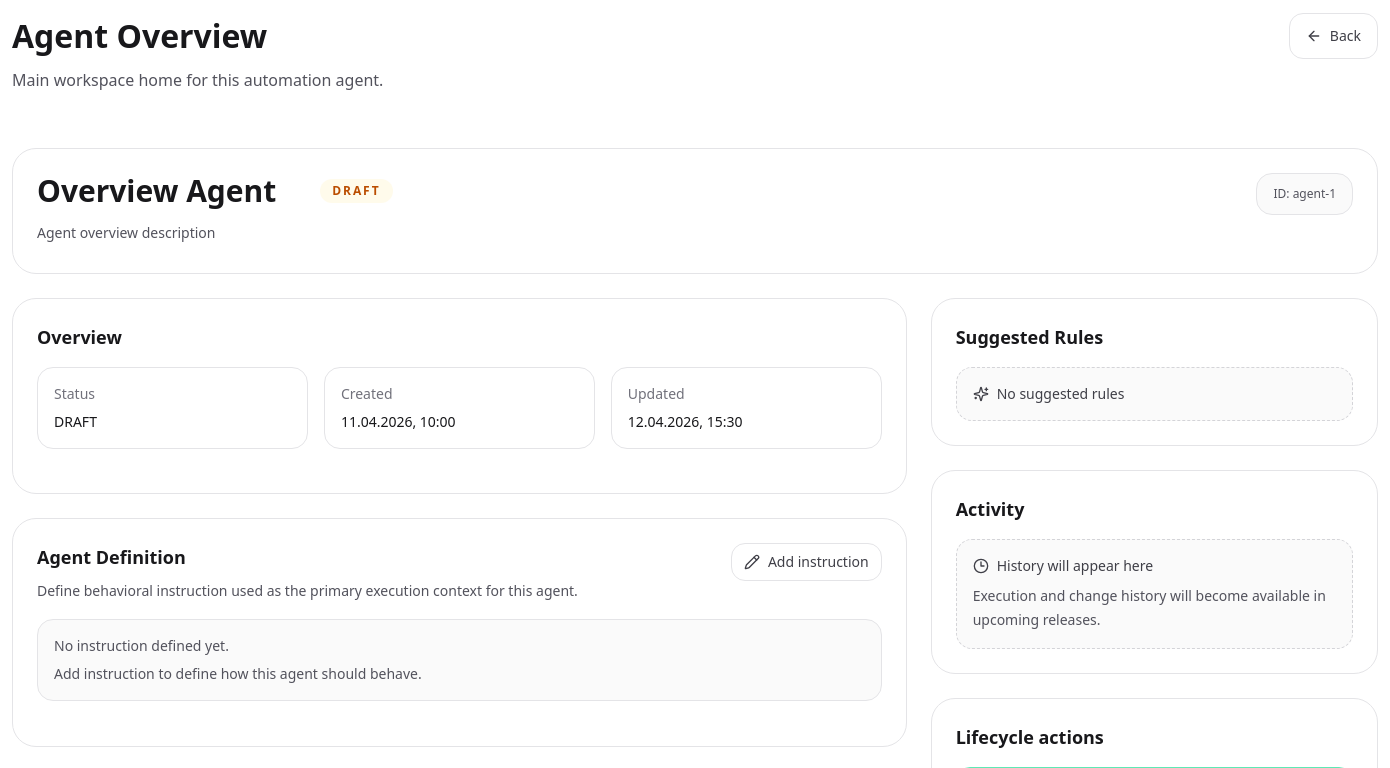
Scenario: AgentOverviewPage › cancels name editing on Escape without sending patch request
The width and height of the screenshot is (1390, 768).
expect the heading "Agent Overview" is shown: met, box [12,12,267,60]
Click the button with aria-label "Edit agent name". click: [157, 191]
box: [37,173,276,209]
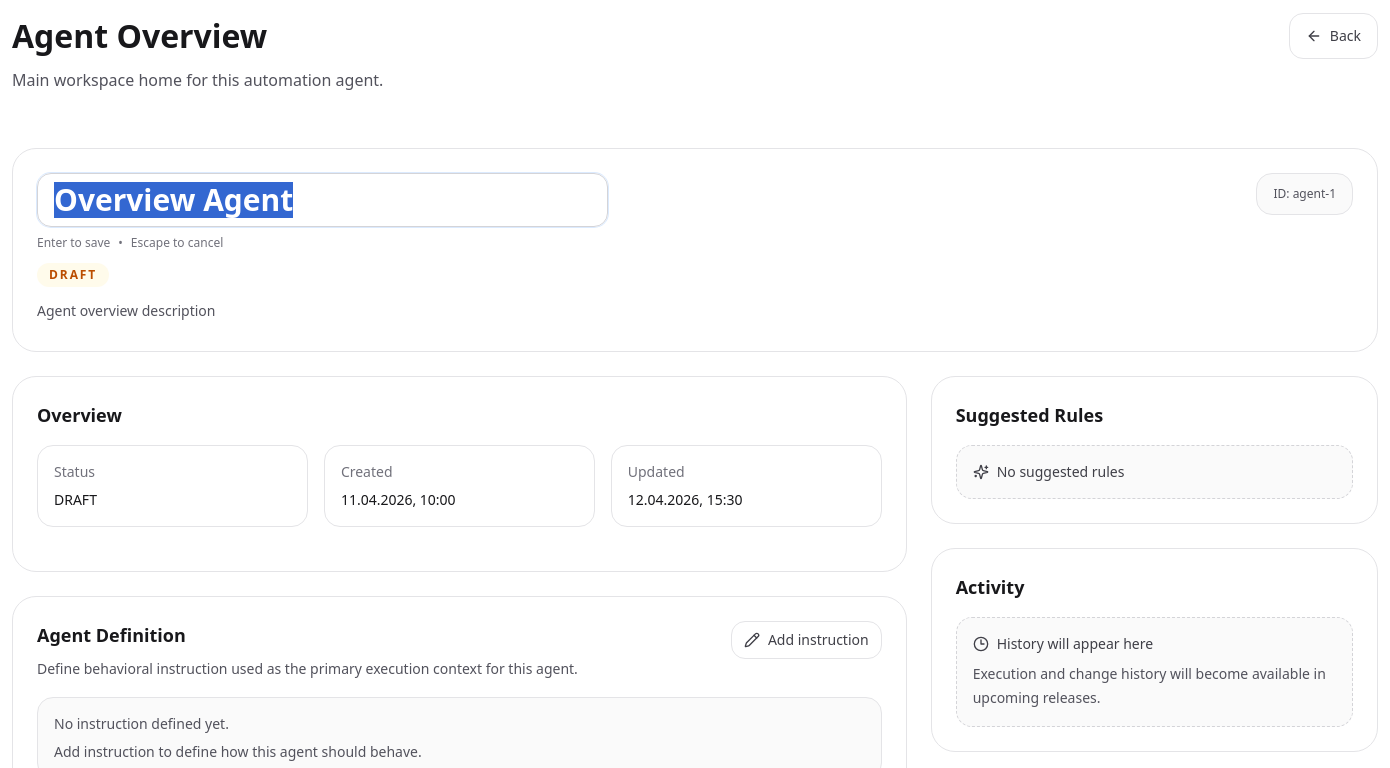
Replace the text in the field showing "Overview Agent" with "Changed Name". click: [323, 200]
box: [37,173,608,227]
Then press Escape
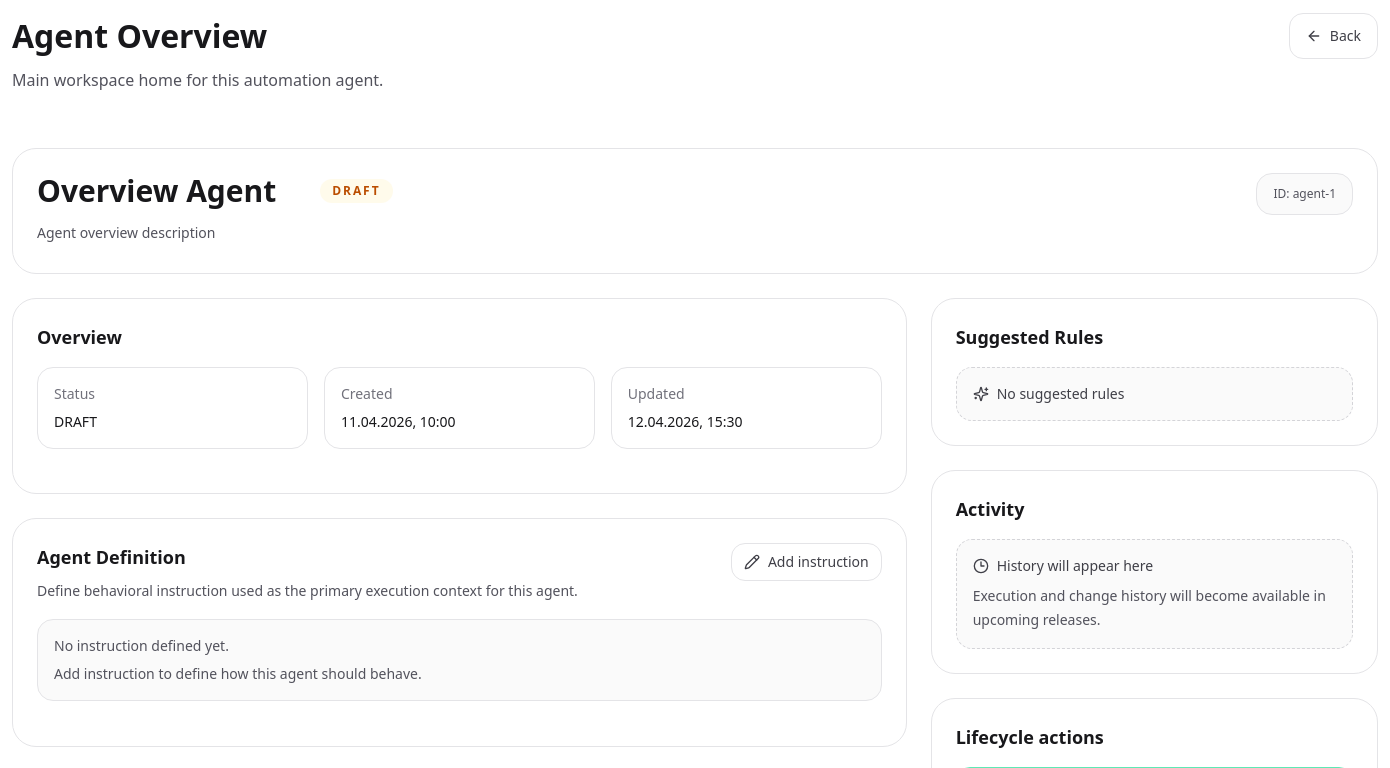
expect the button "Overview Agent" is shown: met, box [37,173,276,209]
